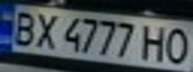4: (57, 14, 84, 53)
7: (115, 19, 142, 60), (78, 16, 100, 54), (97, 17, 118, 56)
B: (6, 8, 42, 47)
H: (136, 21, 172, 63)
O: (160, 25, 193, 65)
X: (30, 10, 60, 49)
